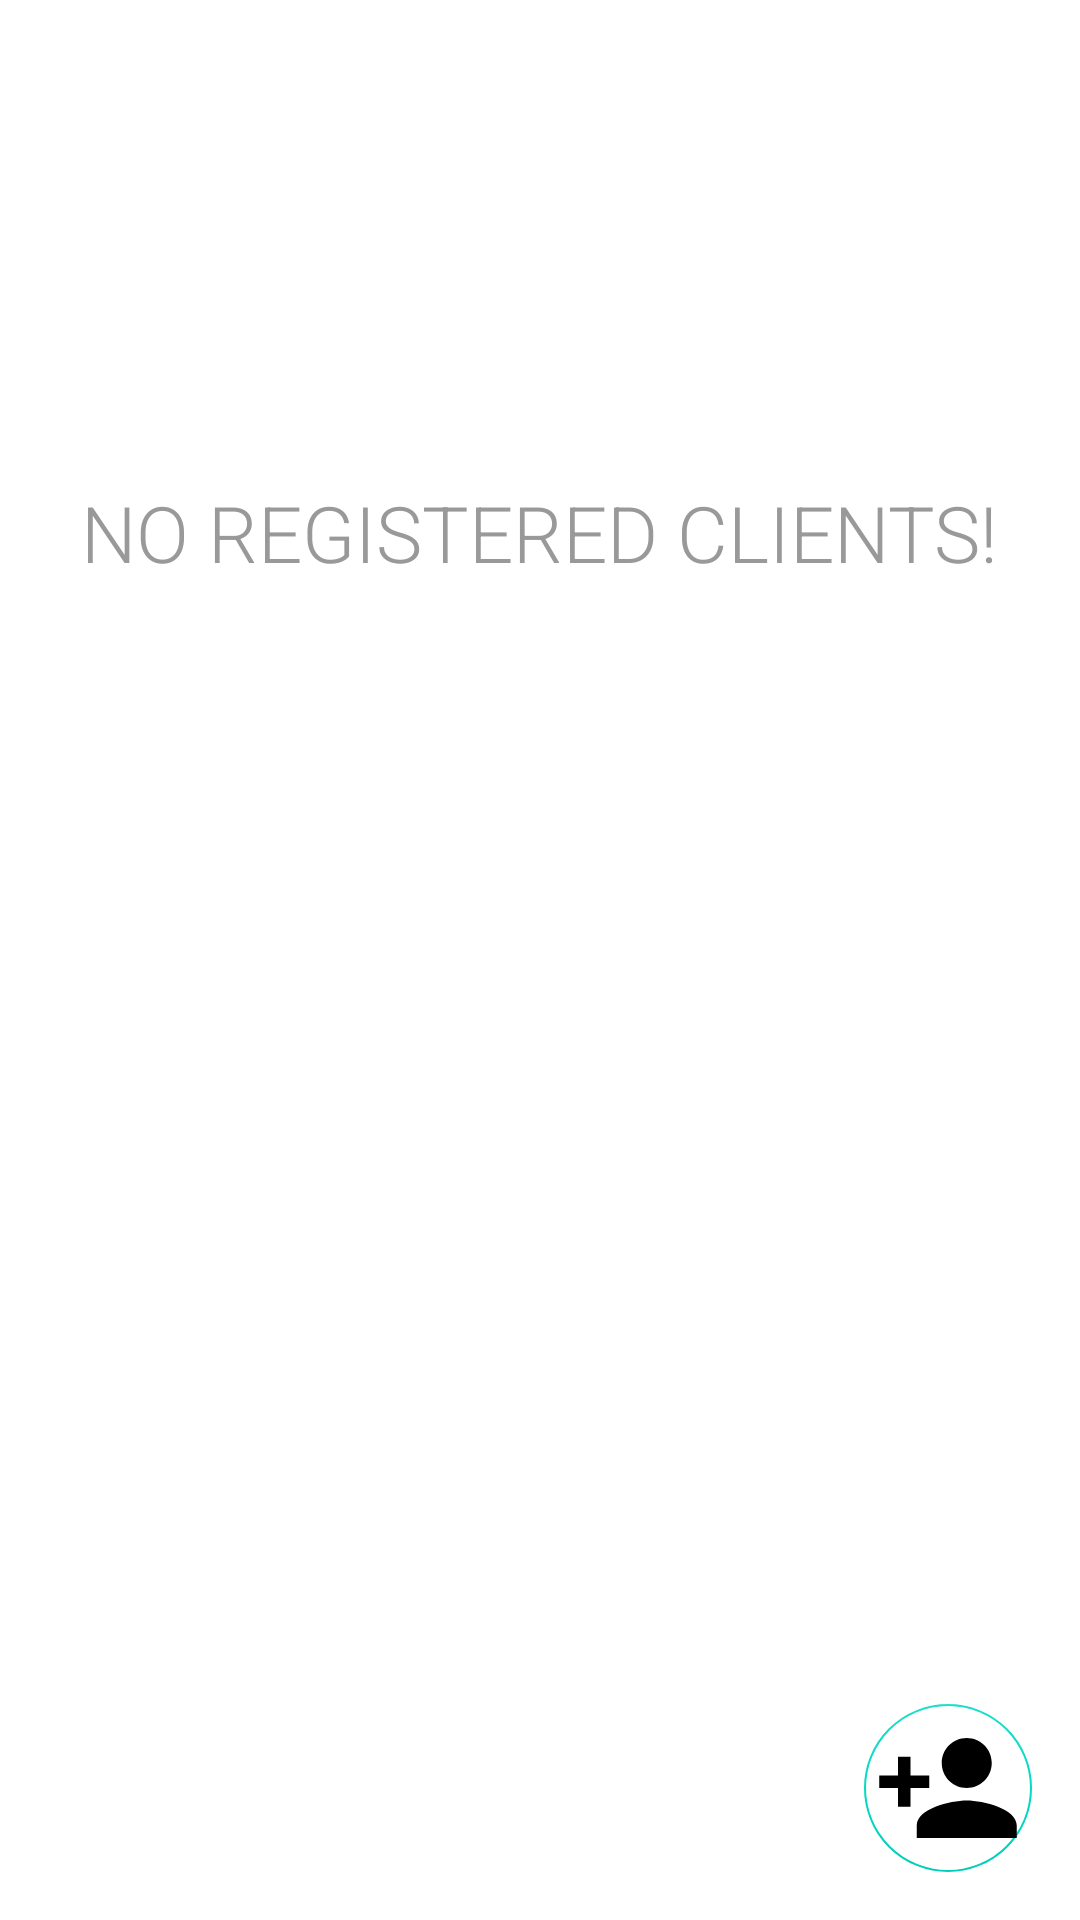

Icons on this 1080*1920 Android screen, each with the point to tap as (x,y):
Click me to add new Clients: (948,1788)
